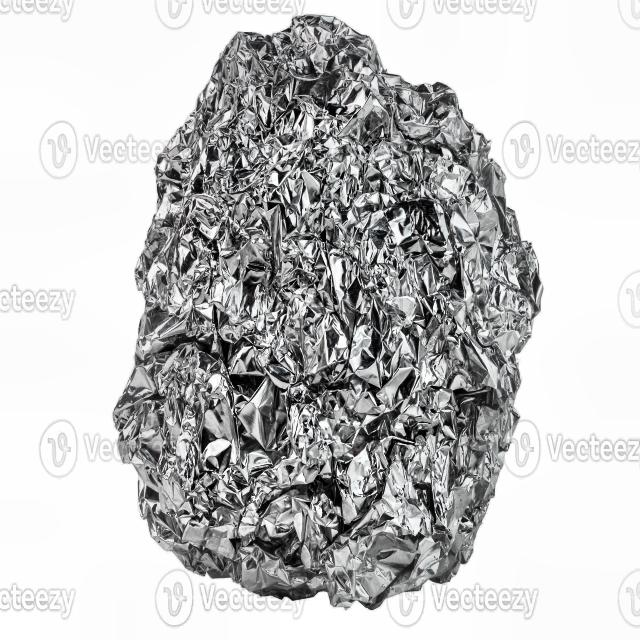Foil: (106, 4, 543, 618)
